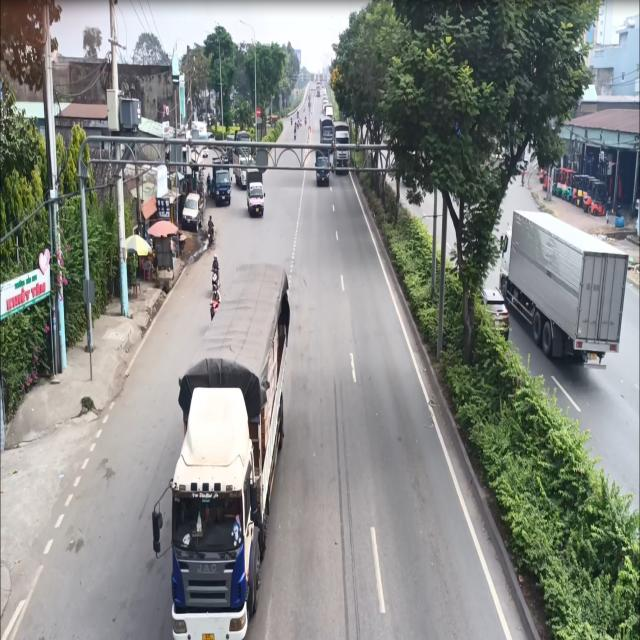motor: (210, 248, 223, 296)
truck: (165, 266, 301, 640), (245, 170, 268, 223), (332, 115, 351, 178)
